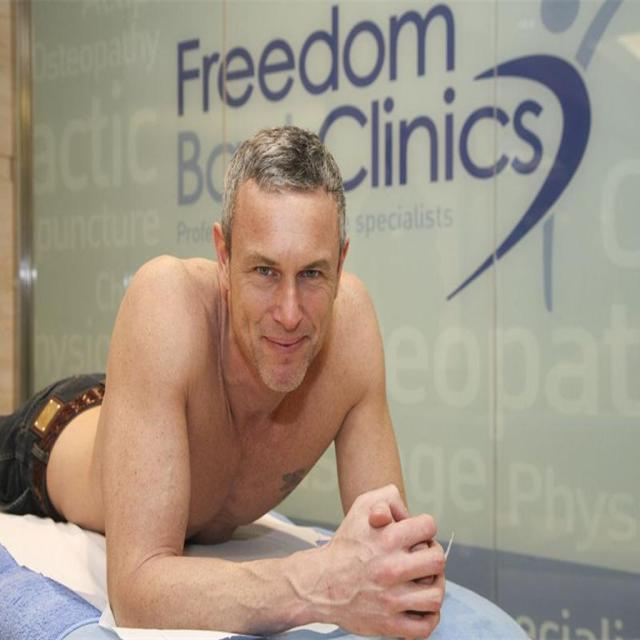Face: (204, 146, 356, 413)
